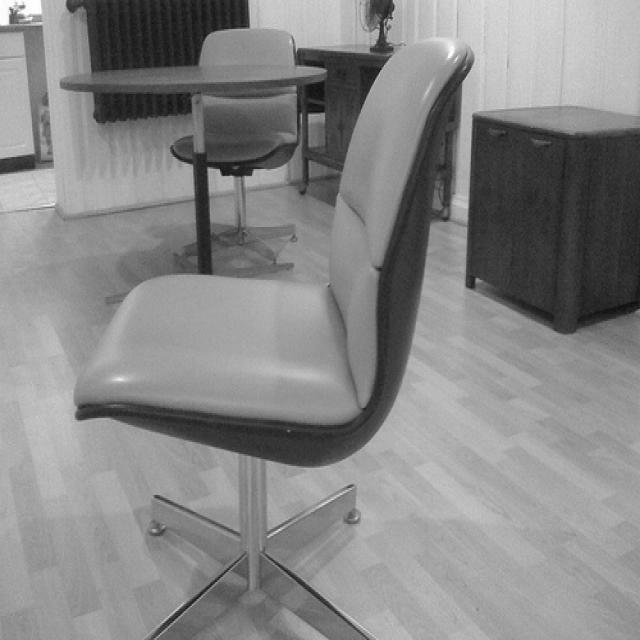chair: (74, 26, 474, 638), (170, 12, 304, 276)
